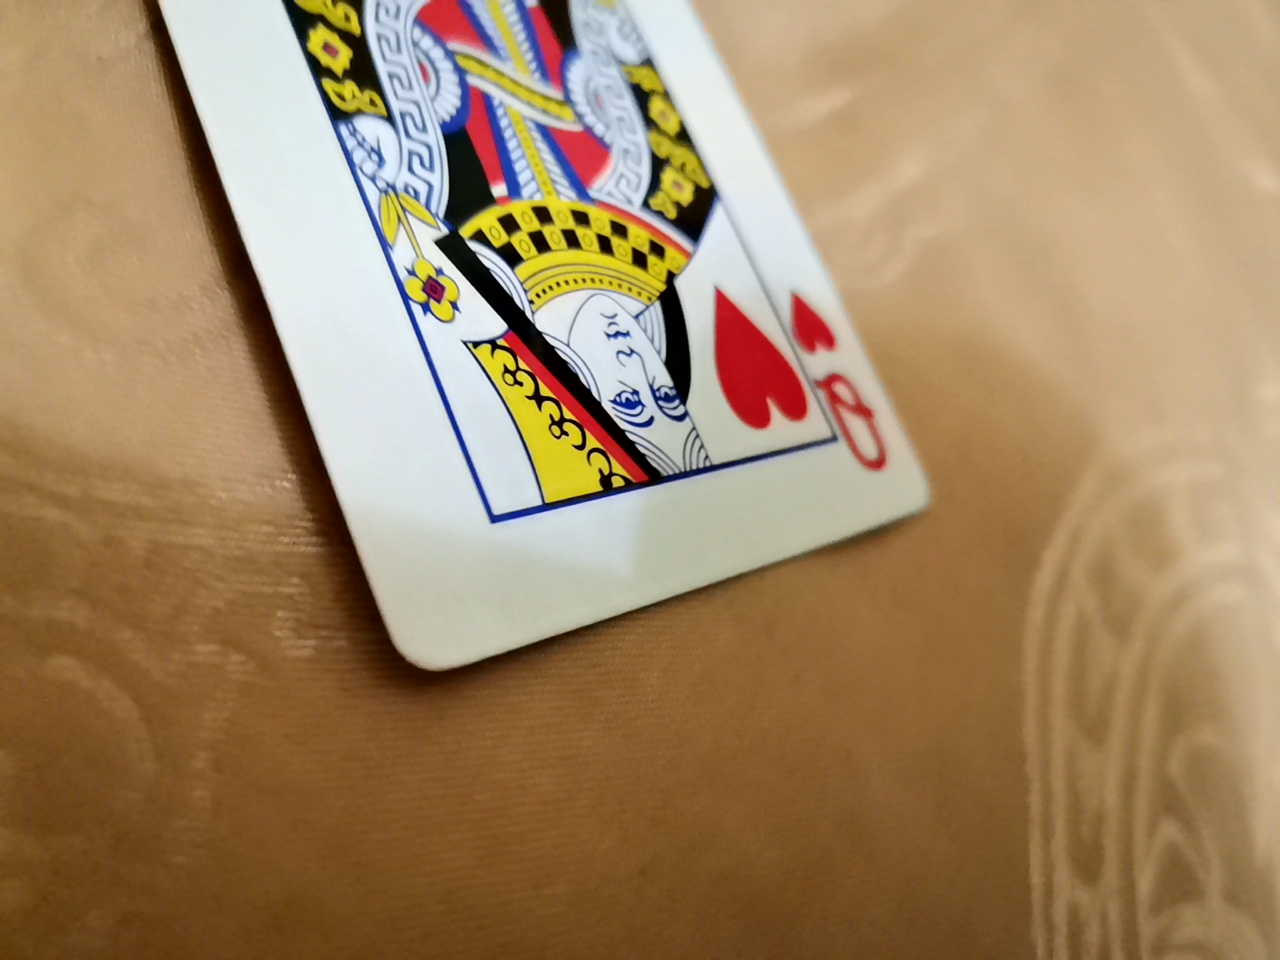hx q: (47, 7, 944, 694)
